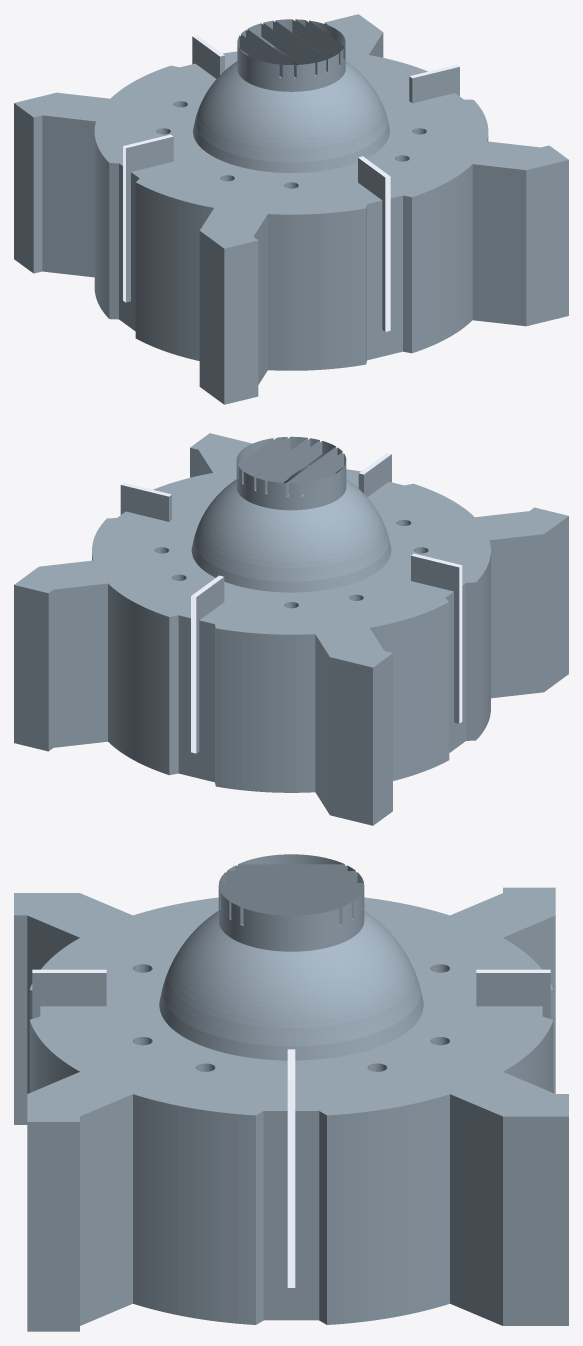
The model's file is salle-raw.glb.
3 views of the same model, one above another, from view 1: azimuth 30°, elevation 25°; view 2: azimuth 150°, elevation 25°; view 3: azimuth 270°, elevation 25° (orthographic). The views are drawn at different scales.
Visible parts, largest first — view 1: Salle, Fentes; view 2: Salle, Fentes; view 3: Salle, Fentes.
Boxes of the visible parts, bbox=[...] form: Salle: bbox=[14, 14, 568, 404]; Fentes: bbox=[123, 35, 459, 331]; Salle: bbox=[14, 433, 568, 825]; Fentes: bbox=[121, 453, 462, 753]; Salle: bbox=[14, 854, 568, 1331]; Fentes: bbox=[32, 969, 550, 1287].
Bounding box in the file's own units: 42 × 27.5 × 42.
